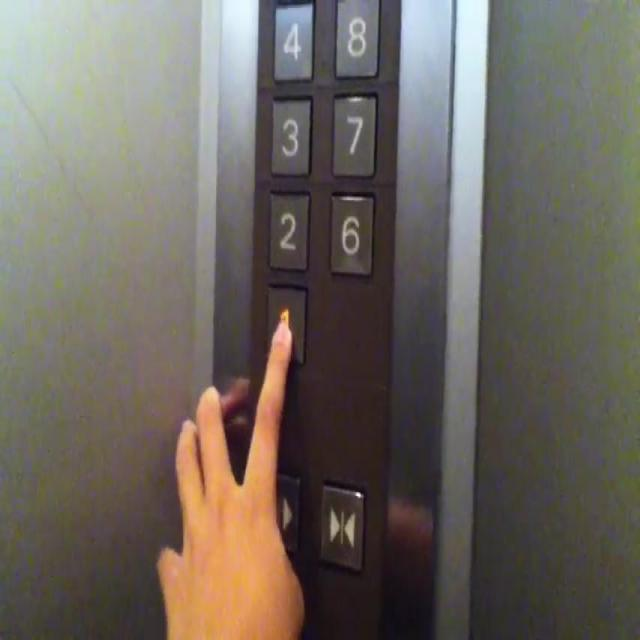2: (265, 188, 312, 273)
3: (267, 93, 315, 180)
4: (269, 0, 316, 85)
6: (326, 189, 376, 279)
7: (328, 89, 378, 183)
8: (331, 0, 382, 83)
close: (317, 479, 366, 573)
